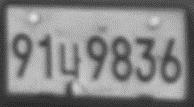1: (38, 33, 54, 81)
3: (134, 37, 157, 82)
6: (159, 38, 181, 84)
8: (110, 35, 133, 81)
9: (85, 35, 108, 80), (11, 32, 33, 77)
나: (57, 41, 82, 80)
